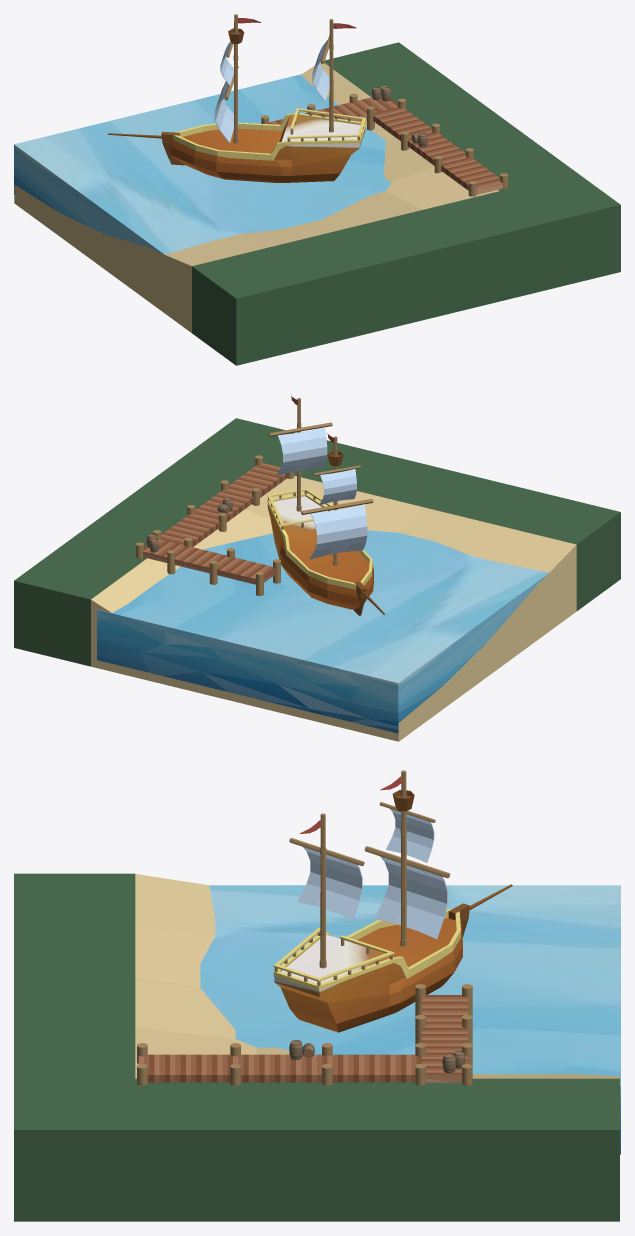
The model's file is Dock.glb.
The picture shows the model from 3 angles, top to bottom: view 1: azimuth 30°, elevation 25°; view 2: azimuth 150°, elevation 25°; view 3: azimuth 270°, elevation 25°; orthographic projection. The views are drawn at different scales.
Parts seen in each view (by area): view 1: grass, water, sand, Plane.001, Cube.001, Cylinder; view 2: water, grass, sand, Plane.001, Cube.001, Cylinder; view 3: grass, water, Plane.001, sand, Cube.001, Cylinder.
Part boxes in pixels (x1=…): grass: x1=63, y1=42, x2=620, y2=365; water: x1=14, y1=74, x2=391, y2=254; sand: x1=14, y1=62, x2=499, y2=332; Plane.001: x1=108, y1=14, x2=366, y2=182; Cube.001: x1=269, y1=95, x2=502, y2=194; Cylinder: x1=261, y1=86, x2=507, y2=196; water: x1=97, y1=530, x2=548, y2=733; grass: x1=14, y1=418, x2=620, y2=685; sand: x1=91, y1=475, x2=576, y2=741; Plane.001: x1=267, y1=394, x2=384, y2=615; Cube.001: x1=143, y1=463, x2=287, y2=584; Cylinder: x1=136, y1=455, x2=294, y2=595; grass: x1=14, y1=873, x2=619, y2=1221; water: x1=200, y1=885, x2=620, y2=1154; Plane.001: x1=273, y1=770, x2=512, y2=1032; sand: x1=135, y1=874, x2=619, y2=1078; Cube.001: x1=138, y1=995, x2=467, y2=1082; Cylinder: x1=137, y1=984, x2=472, y2=1085.
Bounding box in the file's own units: 6 × 3.17 × 6.01.
Materials: 12 (3 with a texture image).
